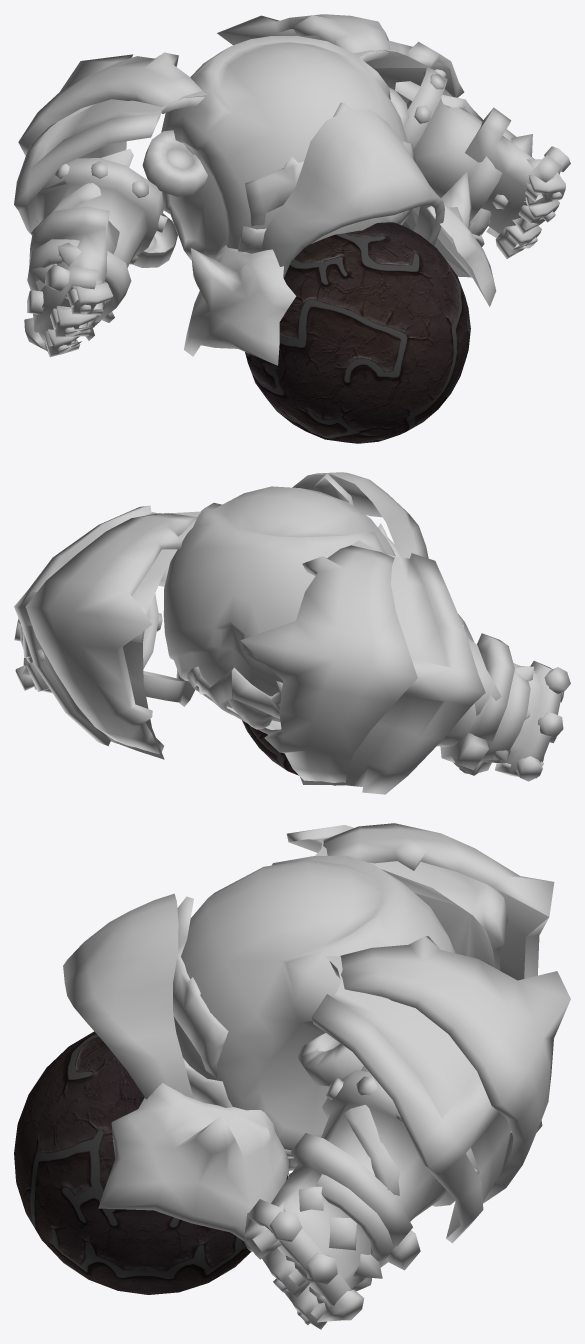
The picture shows the model from 3 angles, top to bottom: view 1: azimuth 30°, elevation 25°; view 2: azimuth 150°, elevation 25°; view 3: azimuth 270°, elevation 25°; orthographic projection. The views are drawn at different scales.
Visible parts, largest first — view 1: ironreaver01; view 2: ironreaver01; view 3: ironreaver01.
Boxes of the visible parts, left/top/right/bottom form: ironreaver01: left=14, top=14, right=570, bottom=443; ironreaver01: left=14, top=472, right=570, bottom=794; ironreaver01: left=14, top=823, right=570, bottom=1329.
Size of the model in its own units: 1.79 by 1.05 by 1.31.
